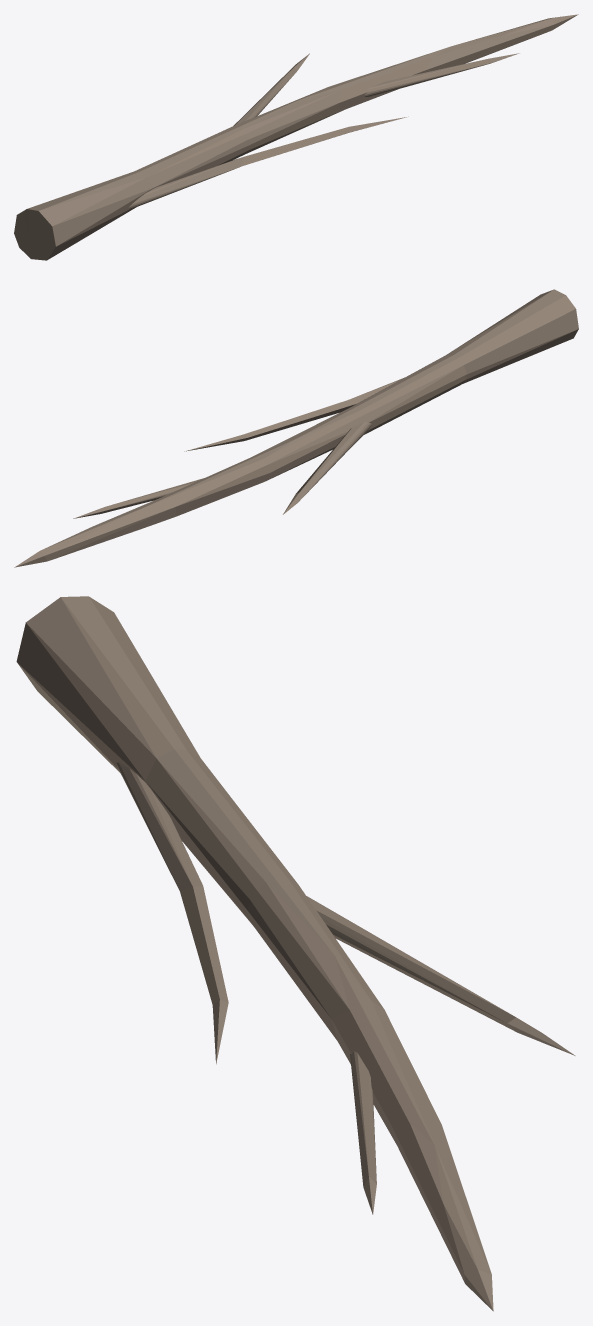
File: fallen_tree2.gltf
3 renders of one model, top to bottom at view 1: azimuth 30°, elevation 25°; view 2: azimuth 210°, elevation 25°; view 3: azimuth 270°, elevation 25°, orthographic. The views are drawn at different scales.
Visible parts, largest first — view 1: Sphere.059_wood_0; view 2: Sphere.059_wood_0; view 3: Sphere.059_wood_0.
Part boxes in pixels (x1,y1,x2,y2): Sphere.059_wood_0: (14,14,578,260); Sphere.059_wood_0: (14,289,578,567); Sphere.059_wood_0: (16,596,575,1311).
Size of the model in its own units: 1.71 by 0.1246 by 0.628.
